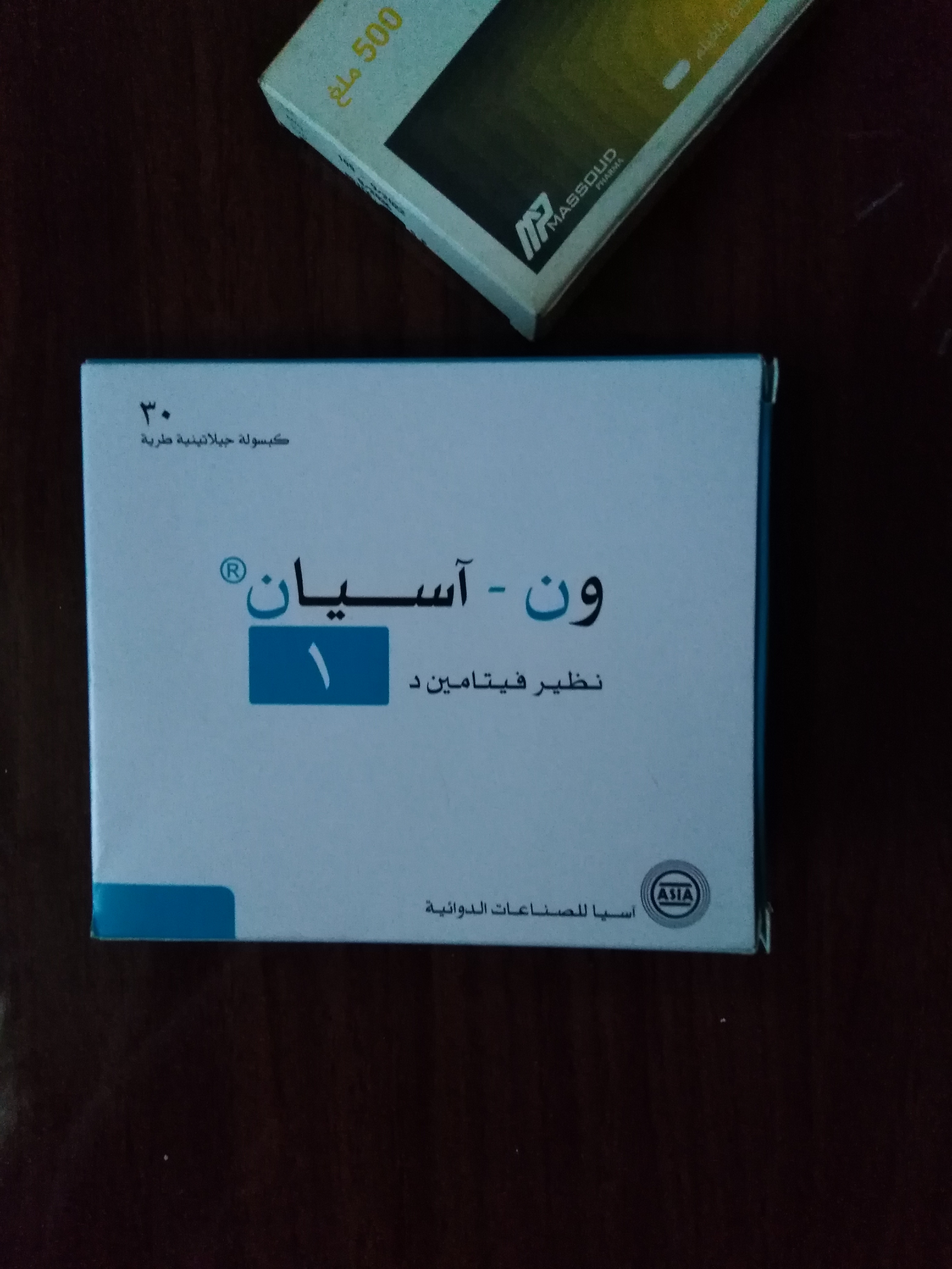Medicine: (63, 333, 781, 1009)
